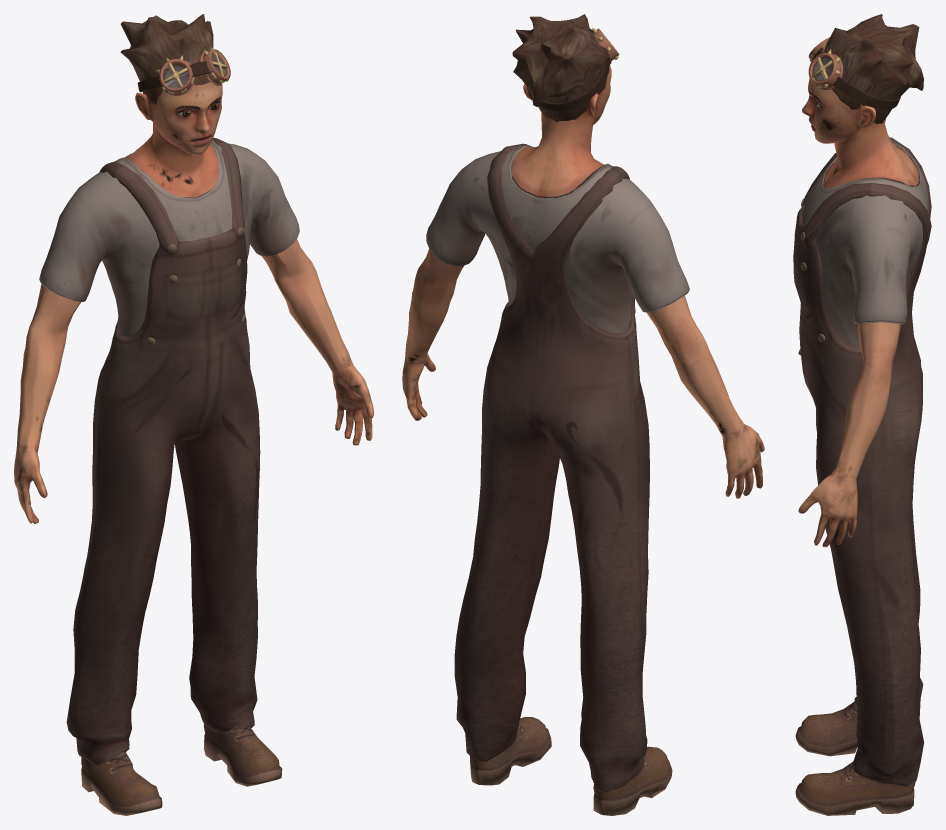
File: steampunk_mechanic.glb
3 renders of one model, left to right at view 1: azimuth 30°, elevation 25°; view 2: azimuth 150°, elevation 25°; view 3: azimuth 270°, elevation 25°, orthographic.
Visible parts, largest first — view 1: overalls_low, body_low, shirt_low, boots_low, hair_low, goggles_low; view 2: overalls_low, shirt_low, body_low, hair_low, boots_low, headband_low; view 3: overalls_low, body_low, shirt_low, boots_low, hair_low, goggles_low, headband_low.
Part boxes in pixels (box(x1,y1,x2,y2)): overalls_low: box(66, 137, 260, 765); body_low: box(14, 82, 373, 523); shirt_low: box(39, 140, 299, 336); boots_low: box(81, 724, 282, 815); hair_low: box(120, 14, 213, 104); goggles_low: box(155, 46, 230, 95); overalls_low: box(454, 143, 649, 792); shirt_low: box(426, 145, 689, 333); body_low: box(402, 65, 764, 498); hair_low: box(512, 14, 609, 122); boots_low: box(470, 717, 672, 815); headband_low: box(526, 28, 610, 110); overalls_low: box(793, 137, 931, 786); body_low: box(798, 79, 918, 547); shirt_low: box(801, 143, 928, 347); boots_low: box(795, 702, 915, 815); hair_low: box(823, 14, 923, 123); goggles_low: box(808, 37, 842, 89); headband_low: box(812, 47, 900, 109).
Size of the model in its own units: 0.0303 by 0.0629 by 0.0105.
1 material, 1 textured.
